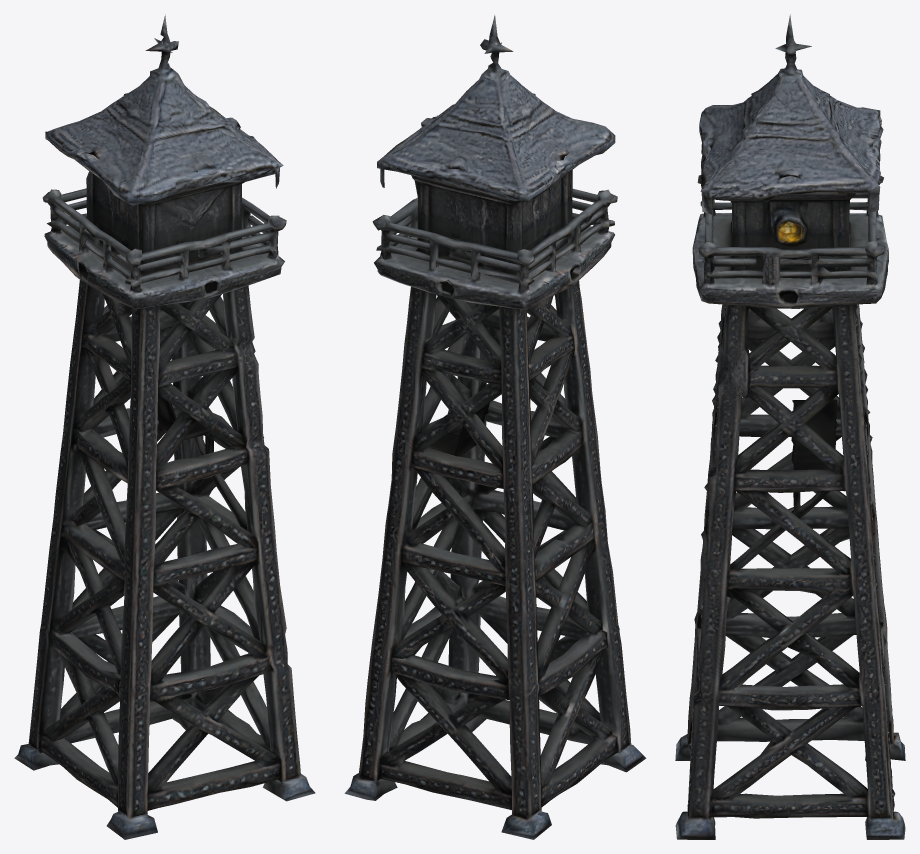
The model's file is tower_watch.glb.
3 renders of one model, left to right at view 1: azimuth 30°, elevation 25°; view 2: azimuth 150°, elevation 25°; view 3: azimuth 270°, elevation 25°, orthographic. The views are drawn at different scales.
Visible parts, largest first — view 1: node_ade109cb-af1c-4c3c-a3dd-5b44af1e5077; view 2: node_ade109cb-af1c-4c3c-a3dd-5b44af1e5077; view 3: node_ade109cb-af1c-4c3c-a3dd-5b44af1e5077.
Part boxes in pixels (x1=…): node_ade109cb-af1c-4c3c-a3dd-5b44af1e5077: x1=14, y1=14, x2=315, y2=839; node_ade109cb-af1c-4c3c-a3dd-5b44af1e5077: x1=344, y1=15, x2=646, y2=839; node_ade109cb-af1c-4c3c-a3dd-5b44af1e5077: x1=675, y1=14, x2=905, y2=839.
Bounding box in the file's own units: 0.2624 × 1 × 0.2678.
Materials: 1 (1 with a texture image).
